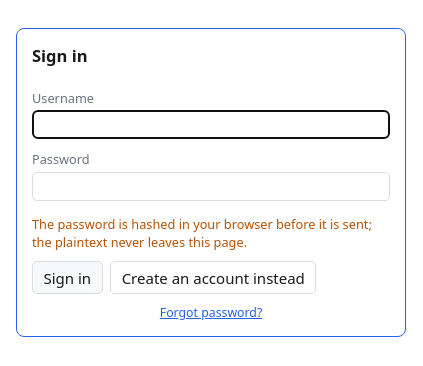
AuthScreen › returns to sign-in without submitting anything
What coordinates should you click on to do the following:
click the button "Forgot password?"
I would click on:
 (211, 313)
Its box is [32, 304, 390, 321].
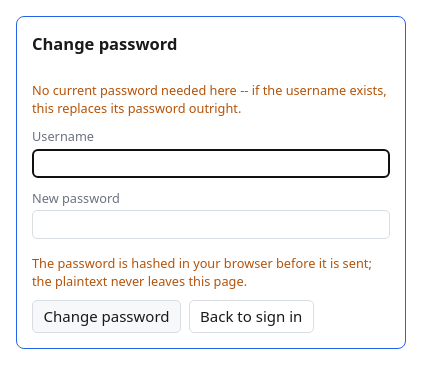
What coordinates should you click on to do the following:
click the button "Back to sign in"
I would click on:
 (251, 316)
Its box is [188, 300, 314, 333].
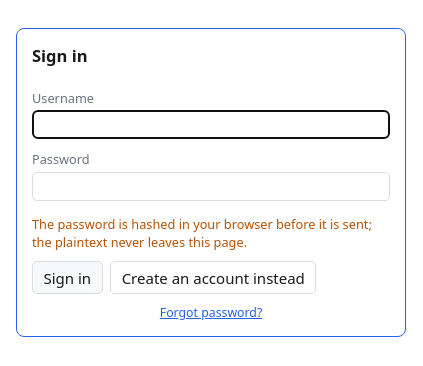
expect the heading "Sign in" is shown: met, box [32, 44, 88, 67]
